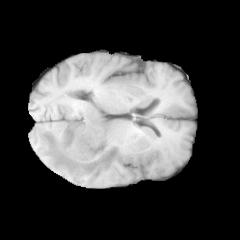glioma: (38, 100, 119, 177)
